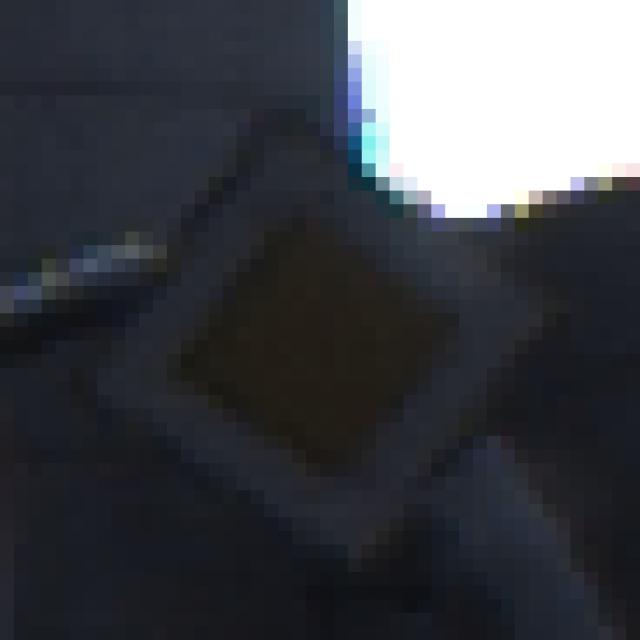Main Road: (71, 83, 572, 573)
